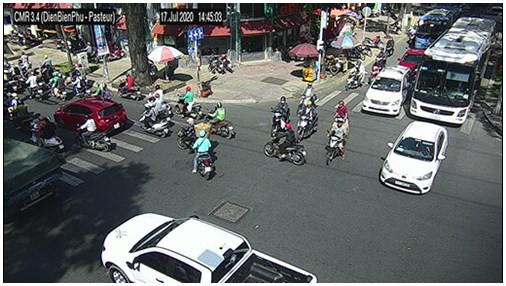xe_ban_tai: (100, 212, 317, 283)
xe_bus: (409, 16, 496, 125), (414, 7, 459, 49)
xe_hoi: (379, 119, 449, 195), (53, 97, 127, 134), (362, 63, 411, 115)
xe_may: (264, 123, 307, 166), (72, 114, 111, 152), (30, 116, 65, 152), (191, 130, 214, 180), (204, 102, 234, 140), (325, 117, 347, 165), (139, 104, 169, 137), (174, 86, 203, 119), (269, 96, 290, 136), (297, 100, 318, 139), (177, 117, 197, 152), (118, 73, 141, 102), (12, 100, 31, 131), (345, 61, 365, 90), (51, 72, 68, 101), (298, 83, 316, 110), (335, 101, 350, 132), (154, 93, 169, 123), (25, 71, 40, 101), (6, 92, 20, 122), (40, 55, 57, 79), (92, 82, 114, 100), (70, 72, 87, 94), (4, 71, 20, 92), (376, 48, 387, 66), (387, 38, 395, 56)
